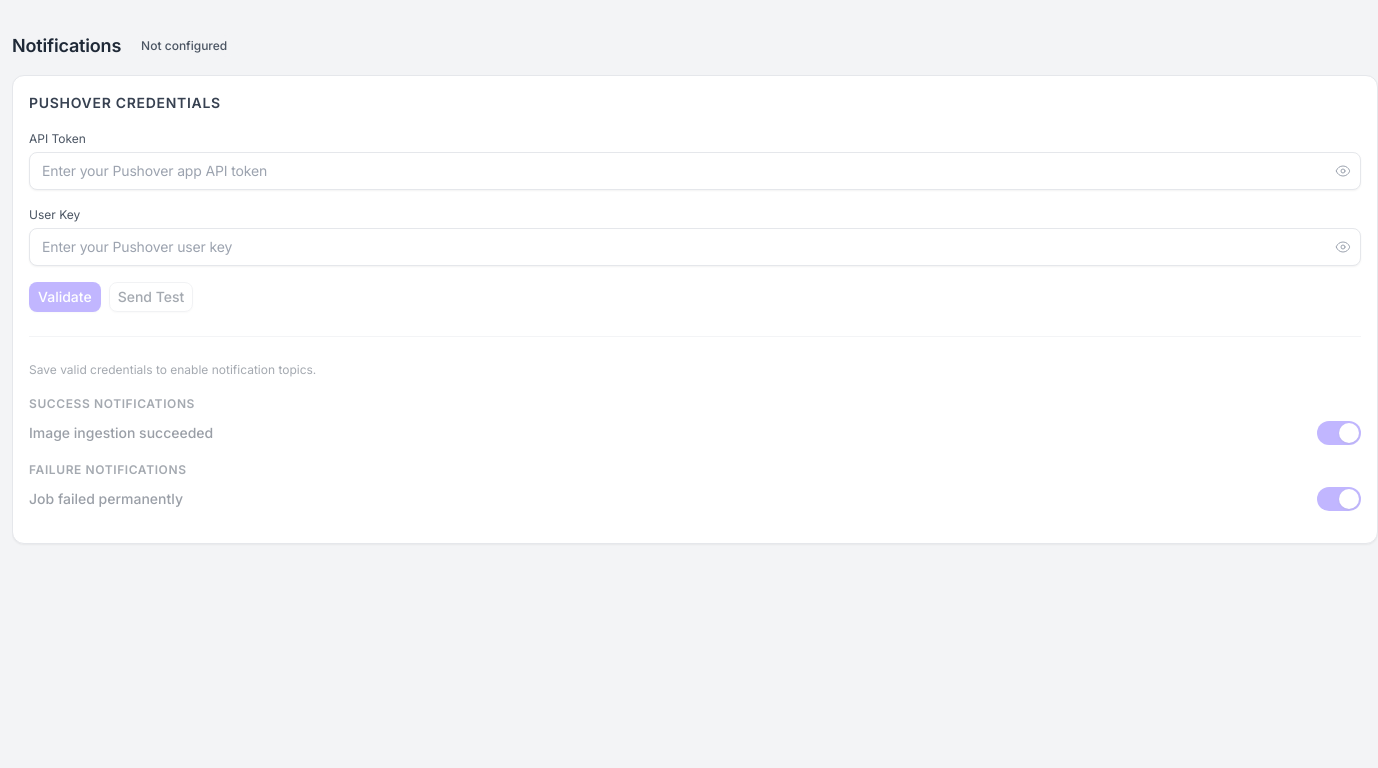
NotificationsSettings › shows validation error status
This screenshot has width=1378, height=768.
In the password field with test id "pushover-token-input": (695, 171) [29,152,1361,190], type "bad-token"
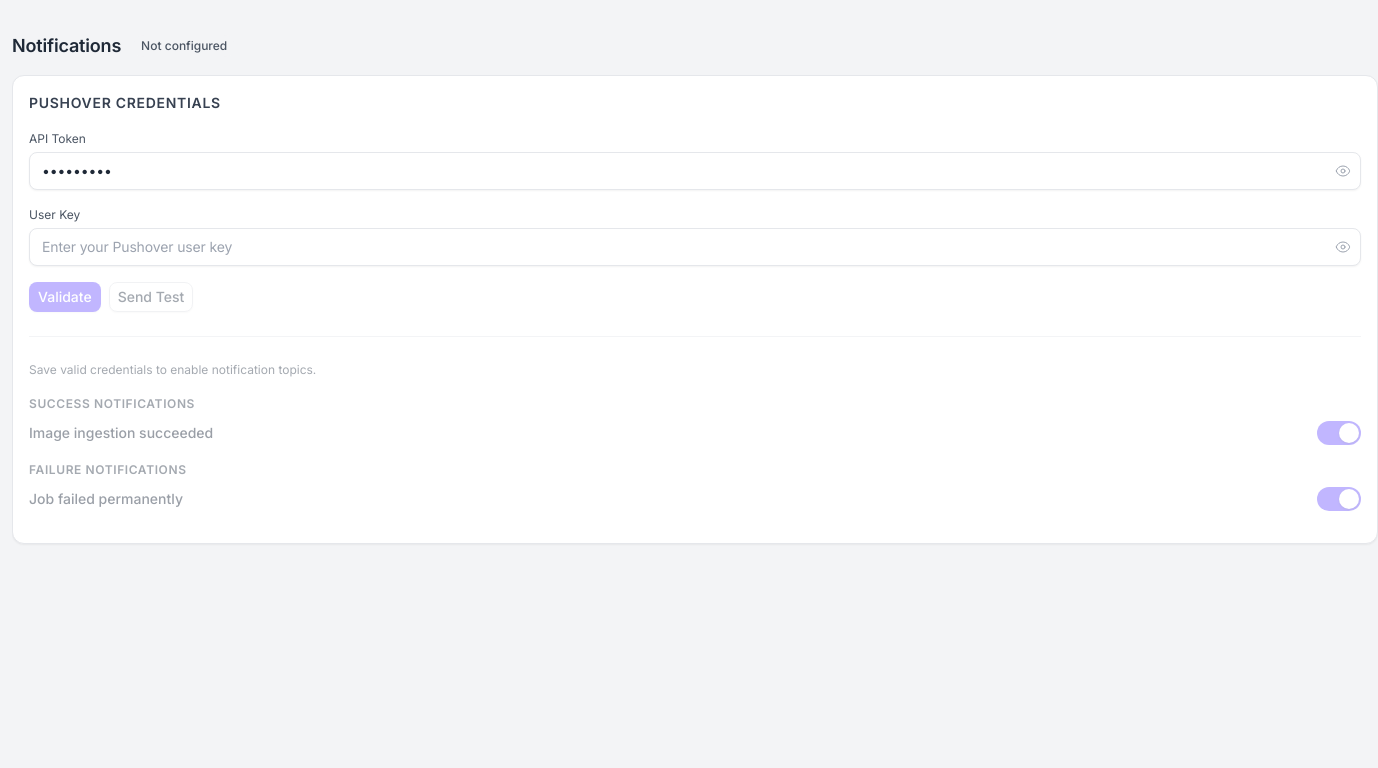
In the password field with test id "pushover-key-input": (695, 247) [29,228,1361,266], type "bad-key"
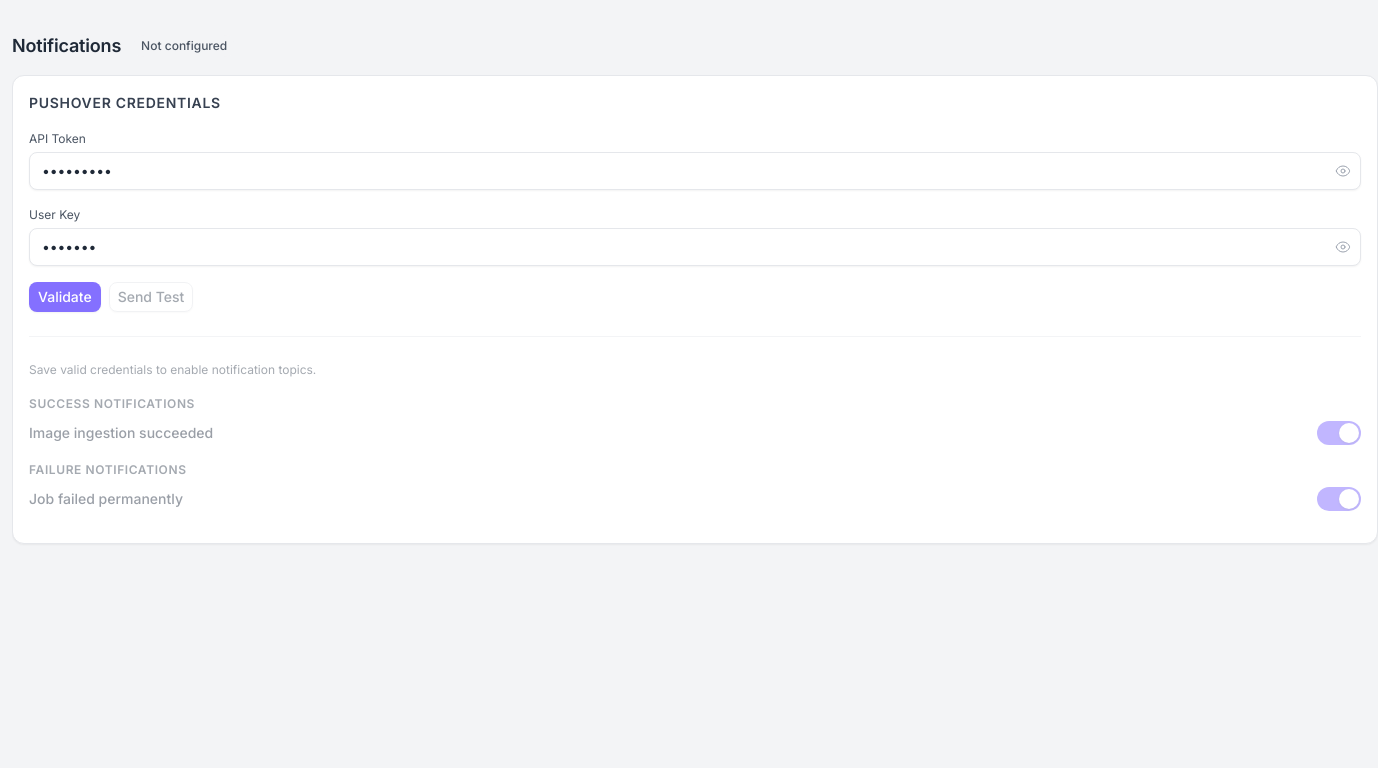
Click the button with test id "validate-button": (65, 297) [29,282,101,312]
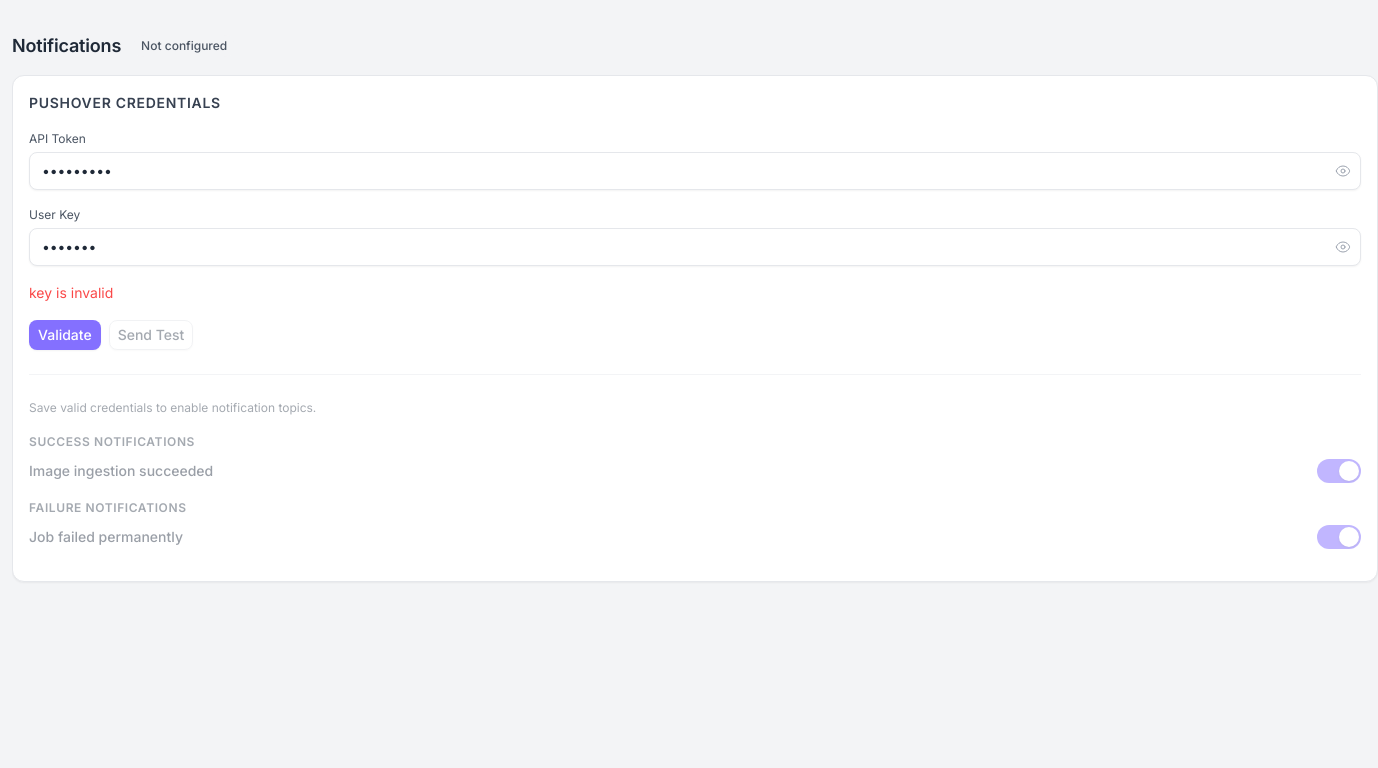
Expected: the element with test id "validation-status" reads "key is invalid", [29,284,113,301]
